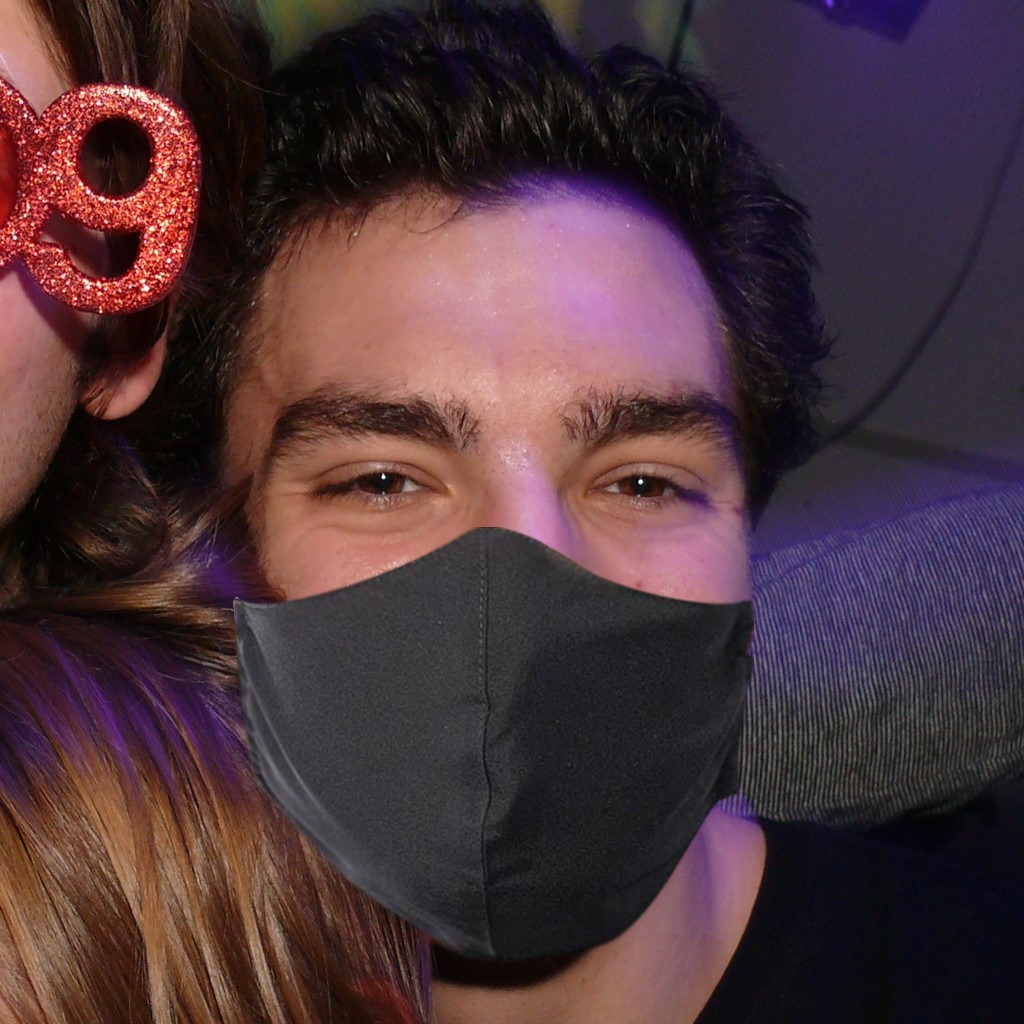con_mascara: (207, 121, 763, 940)
